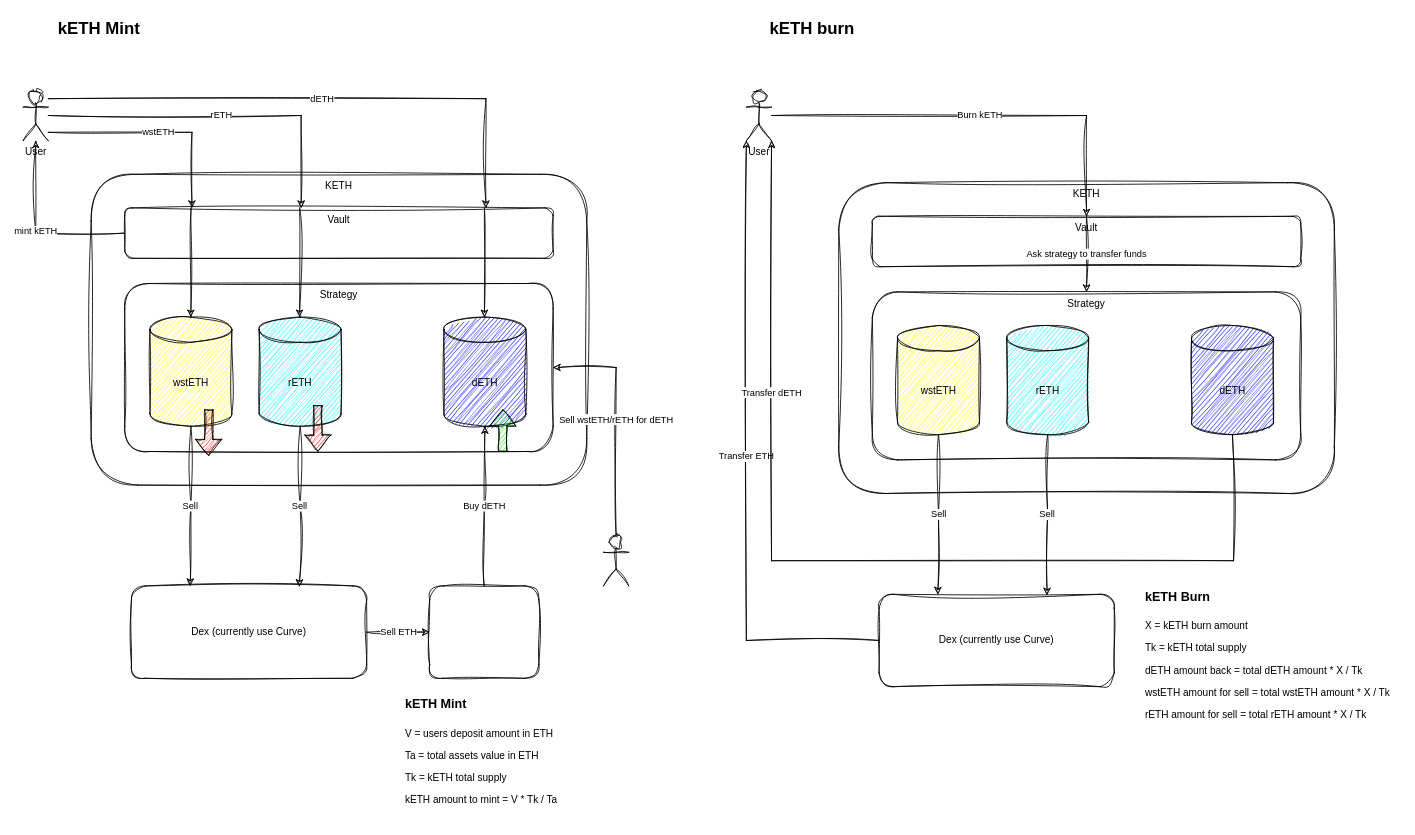
Image size: 1415x835. Some labels were removed from this diagram. Here are the shapes that lost their labels. From the top down, the centre of each, then its label:
At (616,560): "Strategy Manager".
At (484,631): "dETH Vault".
